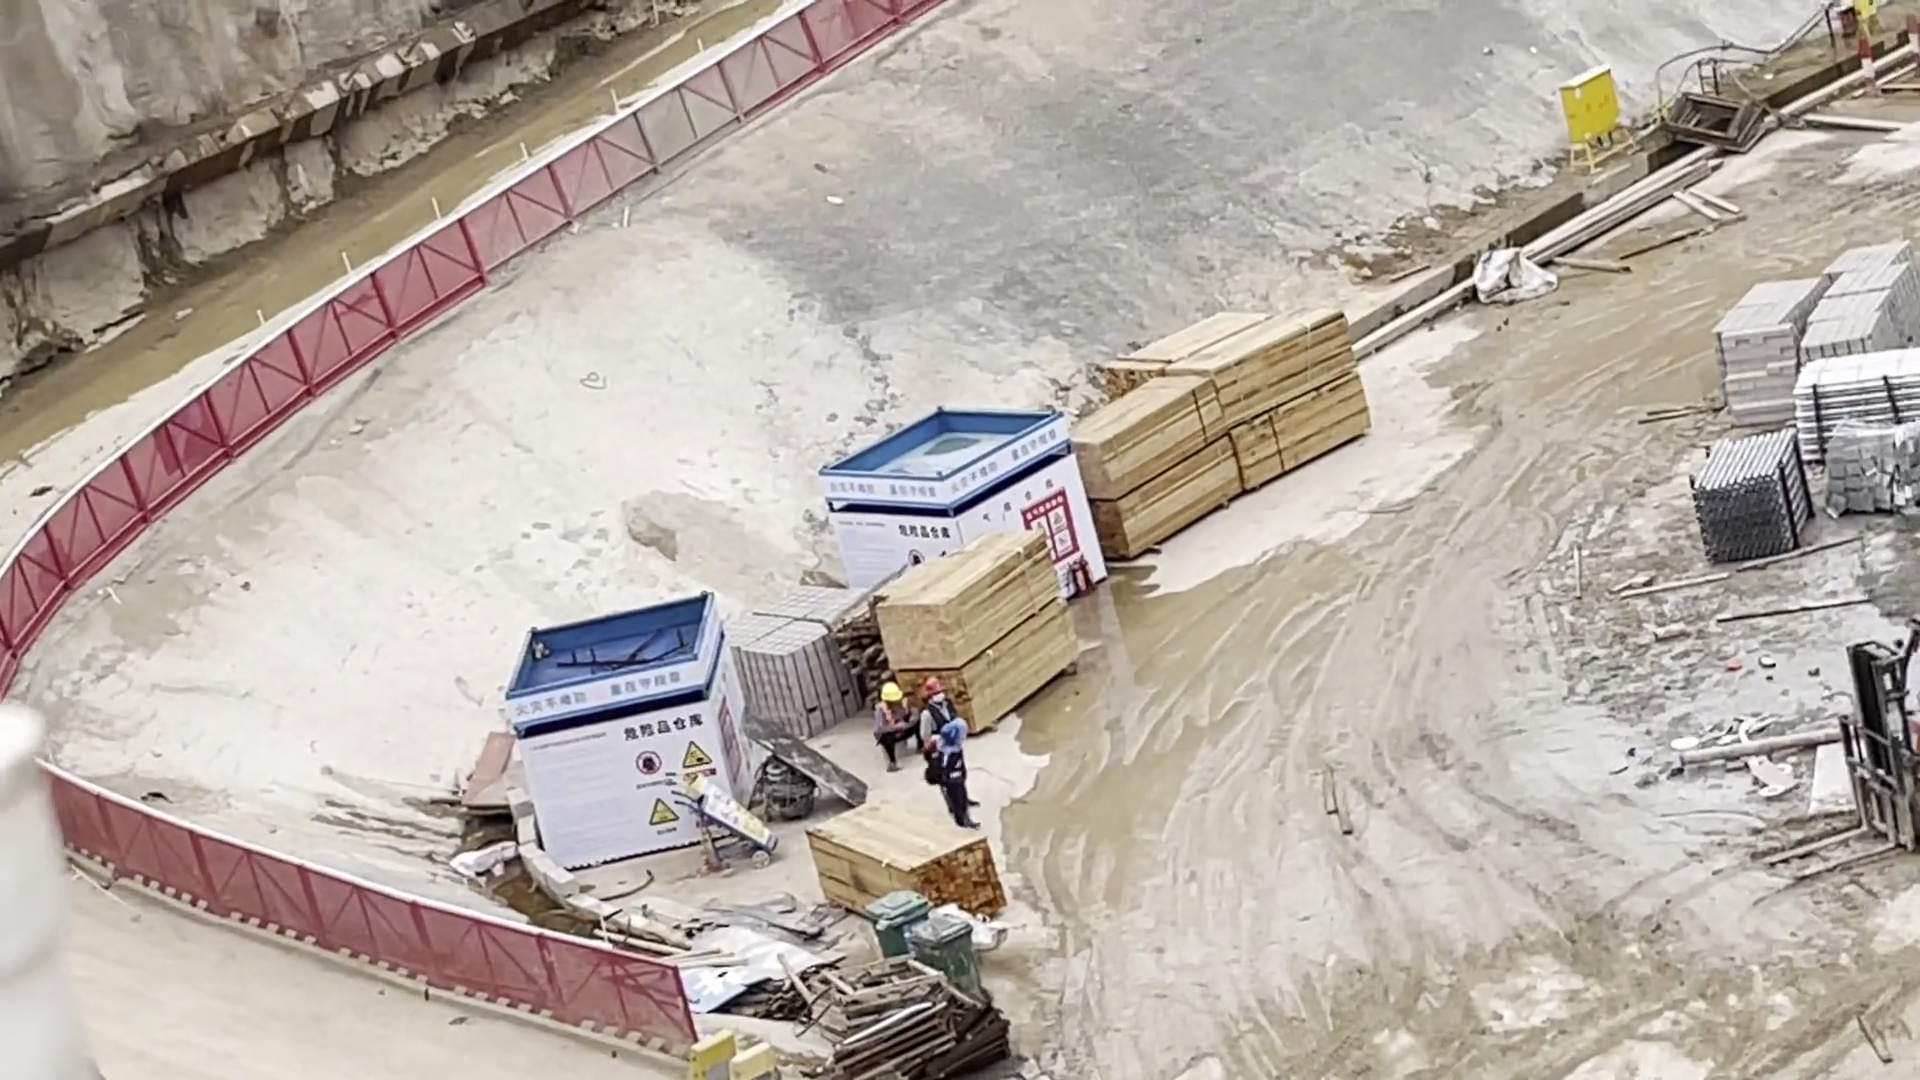brick: (1718, 278, 1807, 415), (1805, 273, 1891, 354)
ebox: (1539, 49, 1656, 195)
fence: (7, 1, 995, 432), (70, 752, 695, 1046), (24, 425, 93, 720)
helmet: (880, 680, 905, 702), (938, 725, 963, 745), (925, 678, 945, 698)
person: (925, 717, 975, 828), (860, 679, 915, 767), (922, 677, 957, 745)
scaffold: (1695, 446, 1814, 556), (1796, 364, 1911, 438)
slogan: (493, 584, 787, 891), (816, 403, 1173, 634)
vest: (879, 704, 915, 738)
wood: (880, 534, 1075, 722), (1177, 310, 1385, 482), (1067, 372, 1238, 552), (813, 816, 1013, 924)
